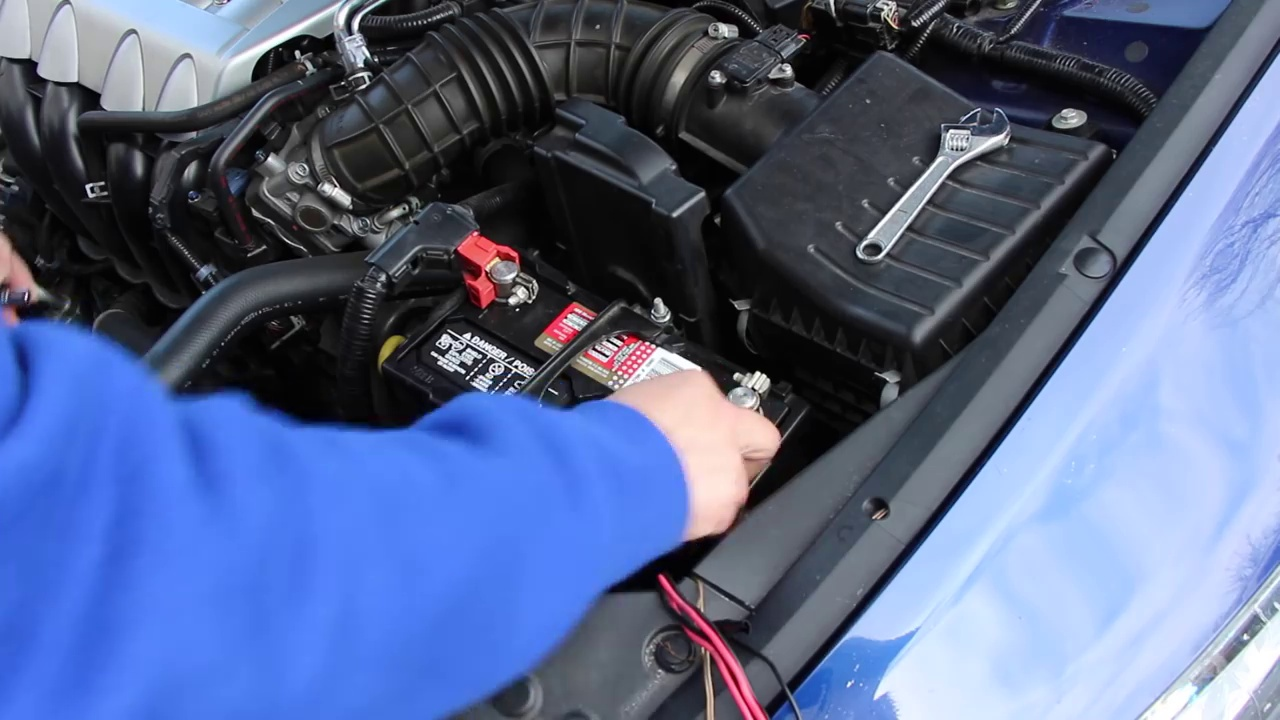battery: (384, 245, 799, 550)
neg_touched: (650, 337, 791, 487)
pos_connected: (434, 207, 560, 329)
